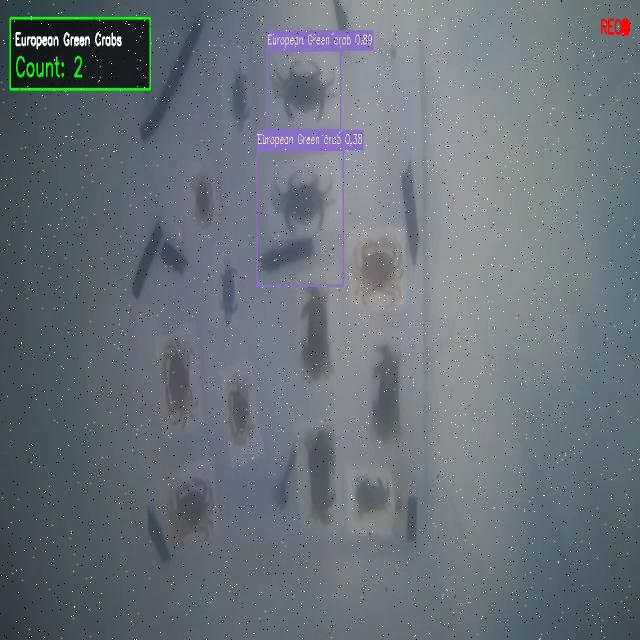European_Green_Crab: (269, 161, 336, 245), (269, 54, 337, 127), (226, 56, 250, 136), (215, 256, 239, 325)
